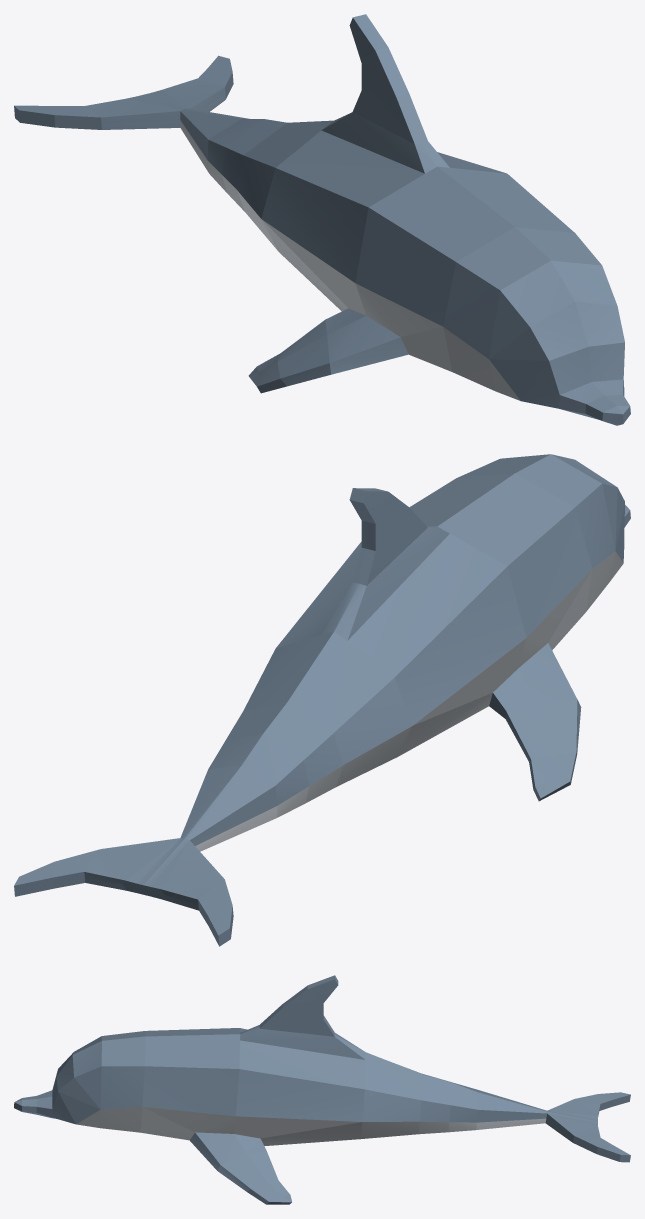
The model's file is dolphin.glb.
3 views of the same model, one above another, from view 1: azimuth 30°, elevation 25°; view 2: azimuth 150°, elevation 25°; view 3: azimuth 270°, elevation 25° (orthographic). The views are drawn at different scales.
Visible parts, largest first — view 1: dolphin; view 2: dolphin; view 3: dolphin.
Part boxes in pixels (x1=…): dolphin: x1=14, y1=14, x2=630, y2=425; dolphin: x1=14, y1=454, x2=630, y2=946; dolphin: x1=14, y1=975, x2=630, y2=1204.
Bounding box in the file's own units: 0.107 × 0.0994 × 0.3.
